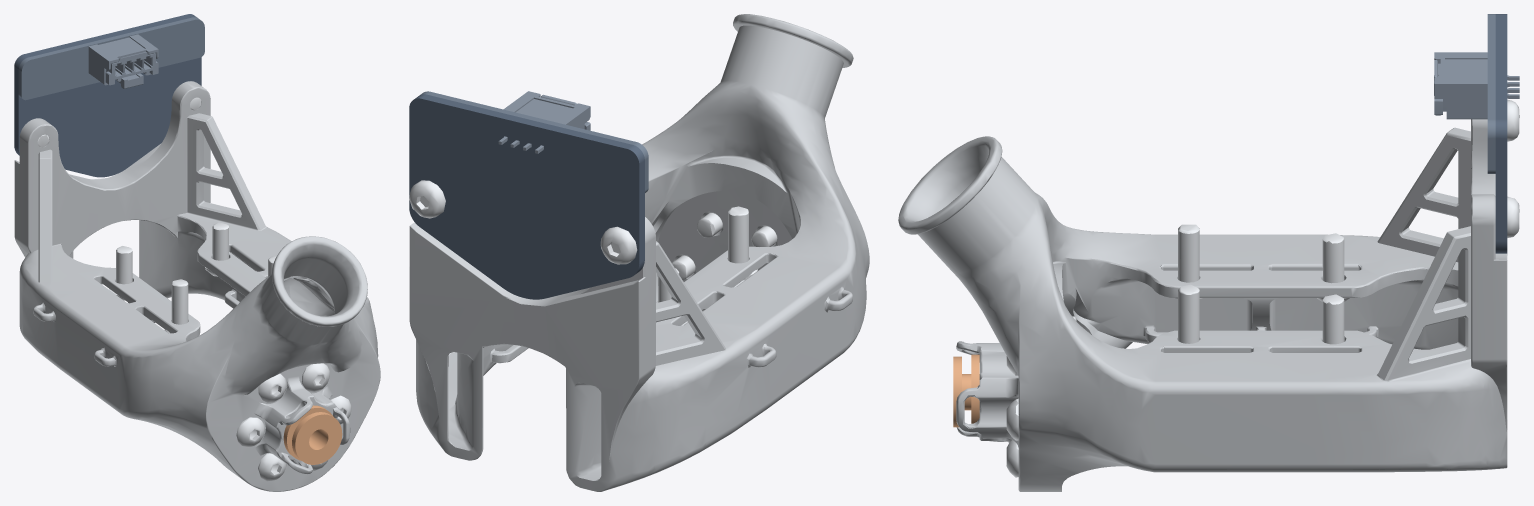
3 renders of one model, left to right at view 1: azimuth 30°, elevation 25°; view 2: azimuth 150°, elevation 25°; view 3: azimuth 270°, elevation 25°, orthographic. The views are drawn at different scales.
Visible parts, largest first — view 1: mbt_chube_slm_chassis, beacon_pcb, beacon_electronics, ecas_fitting, beacon_14, beacon_15, fastener_5, fastener_8, fastener_1, fastener_6, fastener_9, fastener_3 (+1 smaller); view 2: mbt_chube_slm_chassis, beacon_pcb, beacon_14, fastener_5, beacon_electronics, fastener_11, fastener_10; view 3: mbt_chube_slm_chassis, beacon_14, beacon_pcb, beacon_electronics, fastener_5, fastener_2, ecas_fitting, fastener_9, fastener_1.
Part boxes in pixels (<box>): mbt_chube_slm_chassis: <box>14,81,380,491</box>; beacon_pcb: <box>14,14,201,177</box>; beacon_electronics: <box>18,17,204,100</box>; ecas_fitting: <box>283,405,342,464</box>; beacon_14: <box>88,34,158,85</box>; beacon_15: <box>105,52,158,88</box>; fastener_5: <box>164,279,188,333</box>; fastener_8: <box>236,417,264,447</box>; fastener_1: <box>205,222,228,276</box>; fastener_6: <box>301,363,329,392</box>; fastener_9: <box>109,246,132,300</box>; fastener_3: <box>258,373,286,402</box>; mbt_chube_slm_chassis: <box>409,14,869,491</box>; beacon_pcb: <box>409,94,644,299</box>; beacon_14: <box>498,91,590,153</box>; fastener_5: <box>728,206,757,280</box>; beacon_electronics: <box>420,91,648,192</box>; fastener_11: <box>409,180,445,218</box>; fastener_10: <box>600,226,637,264</box>; mbt_chube_slm_chassis: <box>898,119,1507,491</box>; beacon_14: <box>1434,52,1519,119</box>; beacon_pcb: <box>1495,14,1507,253</box>; beacon_electronics: <box>1487,14,1495,173</box>; fastener_5: <box>1175,224,1202,298</box>; fastener_2: <box>1178,284,1199,343</box>; ecas_fitting: <box>953,354,979,427</box>; fastener_9: <box>1317,233,1349,301</box>; fastener_1: <box>1322,294,1344,344</box>.
Size of the model in its own units: 0.0529 by 0.0632 by 0.0858.
